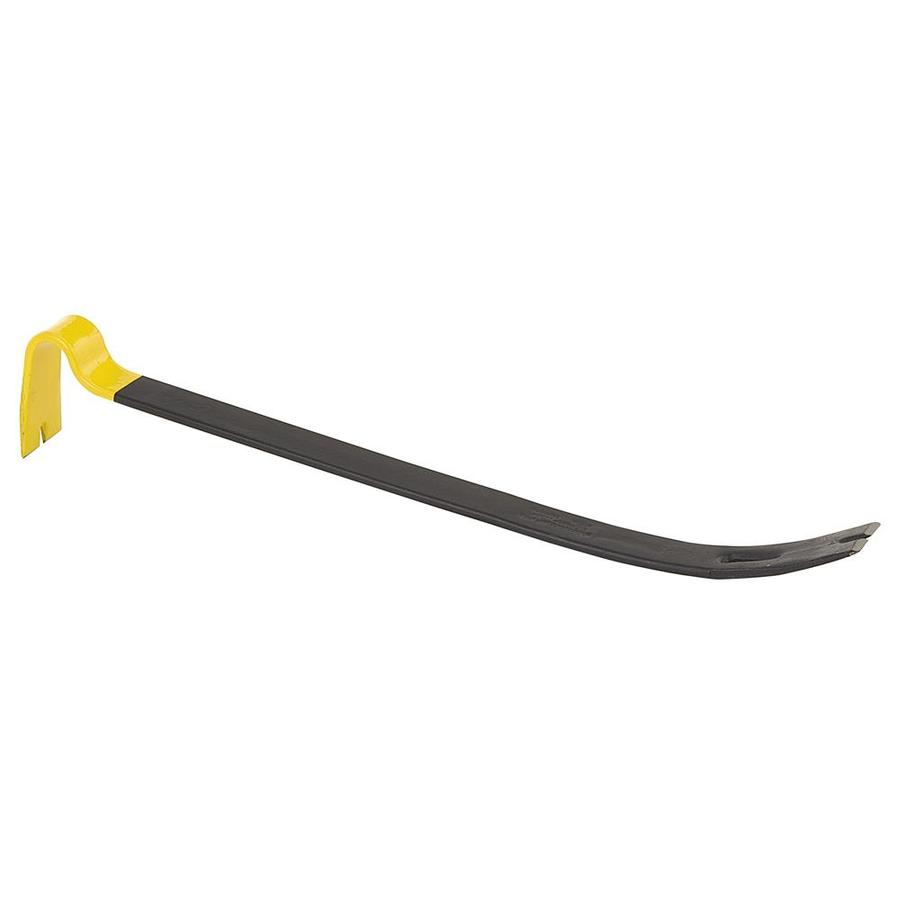crowbar: (11, 301, 887, 627)
